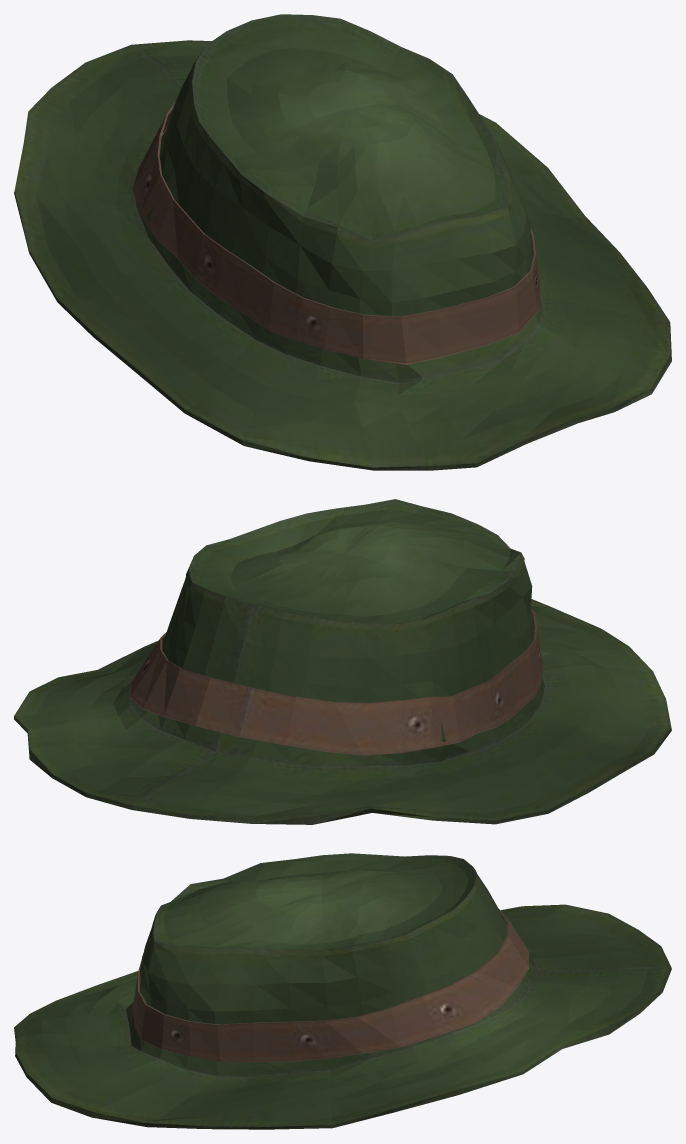
The model's file is mhw_mindfront_fishing_hat_01.glb.
3 renders of one model, top to bottom at view 1: azimuth 30°, elevation 25°; view 2: azimuth 150°, elevation 25°; view 3: azimuth 270°, elevation 25°, orthographic. The views are drawn at different scales.
Parts seen in each view (by area): view 1: mhw_mindfront_fishing_hat_01; view 2: mhw_mindfront_fishing_hat_01; view 3: mhw_mindfront_fishing_hat_01.
Boxes of the visible parts, left/top/right/bottom form: mhw_mindfront_fishing_hat_01: left=14, top=14, right=671, bottom=470; mhw_mindfront_fishing_hat_01: left=14, top=499, right=671, bottom=824; mhw_mindfront_fishing_hat_01: left=14, top=853, right=671, bottom=1129.
Size of the model in its own units: 0.2517 by 0.1111 by 0.3608.
Materials: 1 (1 with a texture image).
